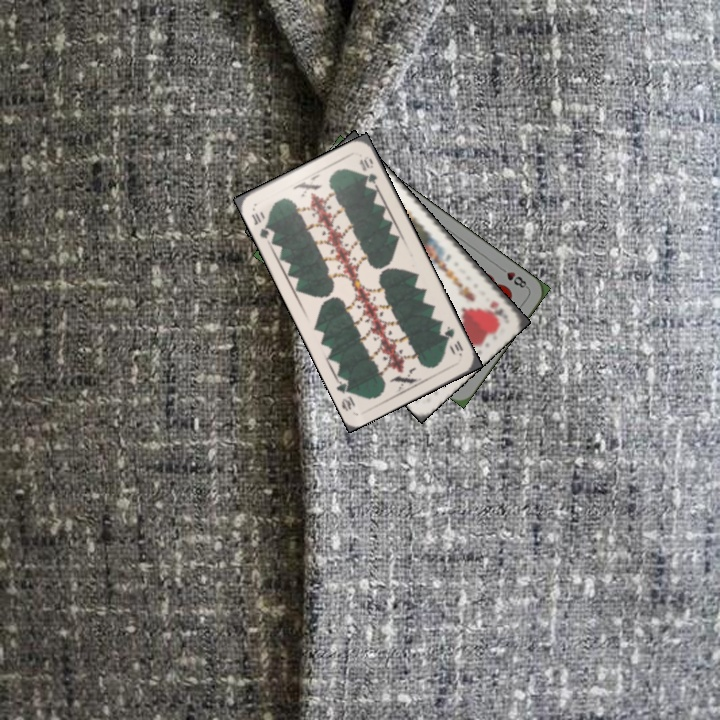G10: (440, 322, 466, 359), (247, 208, 275, 242)
H8: (495, 263, 531, 291)
HK: (485, 296, 506, 319)
